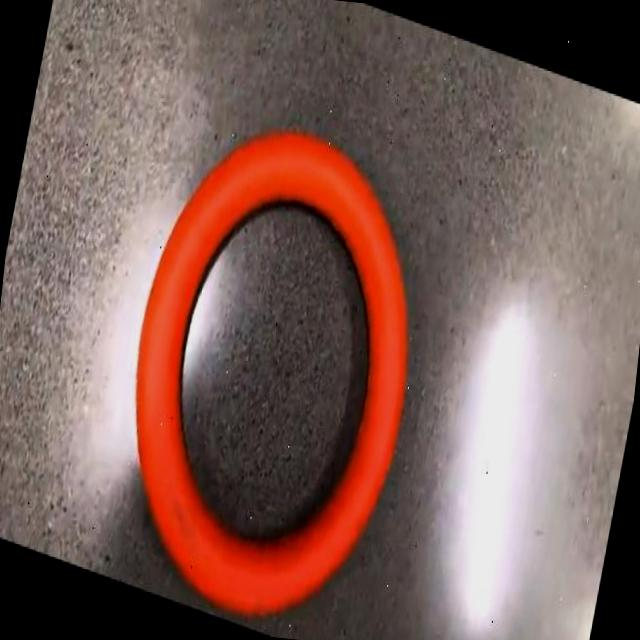note: (137, 130, 407, 613)
